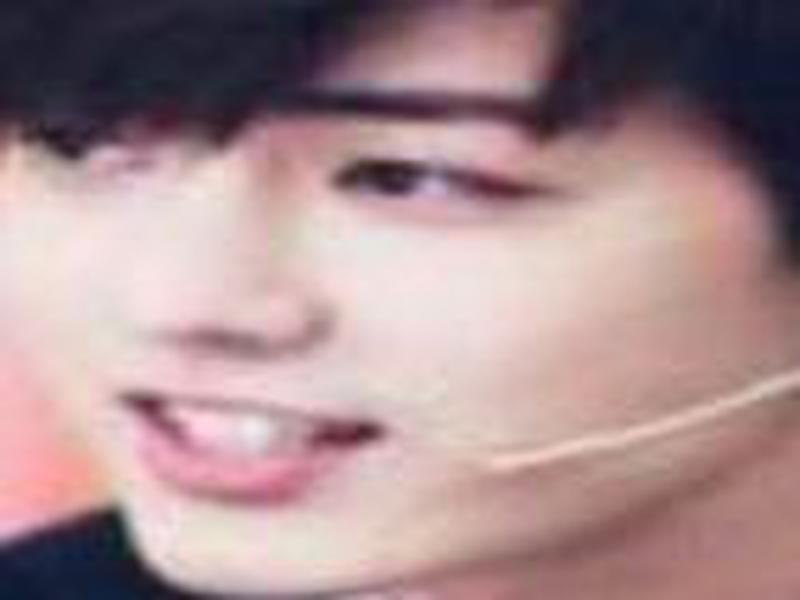without_mask: (8, 6, 691, 587)
